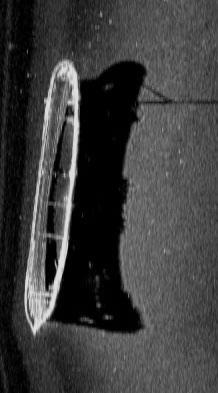ship: (23, 57, 82, 338)
